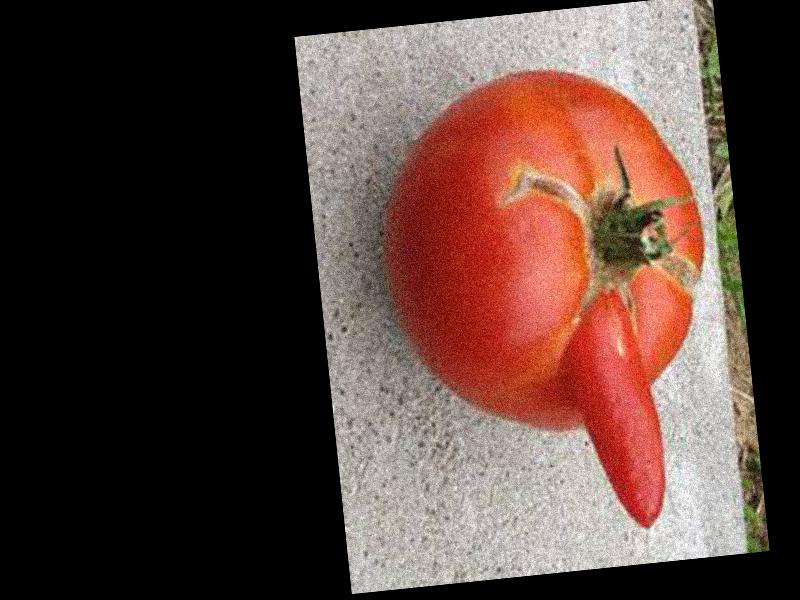Tomato: (378, 51, 722, 446)
